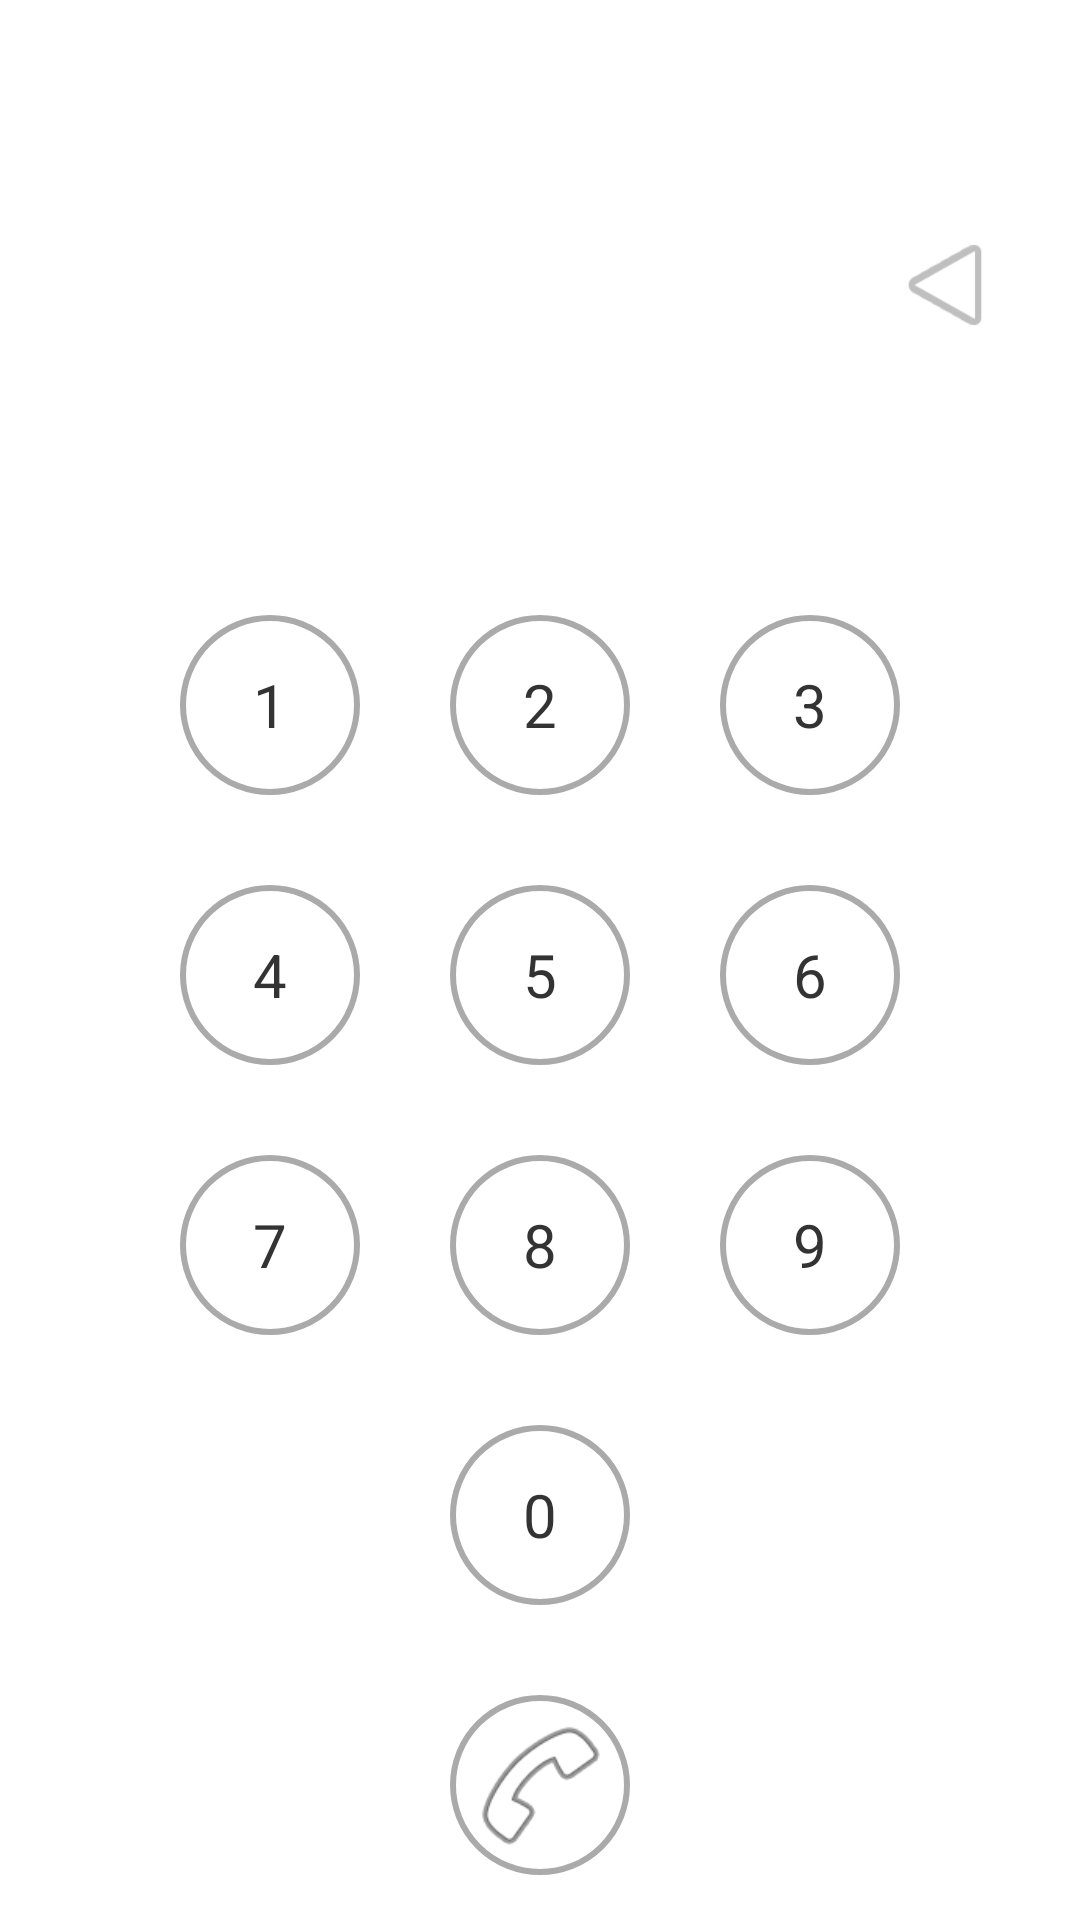

Icons on this 1080 × 1920 Android screen, each with its box as {"left": x1, "top": y1, "right": x2, "bottom": y2}:
back: {"left": 909, "top": 245, "right": 981, "bottom": 325}
call: {"left": 450, "top": 1695, "right": 630, "bottom": 1875}
